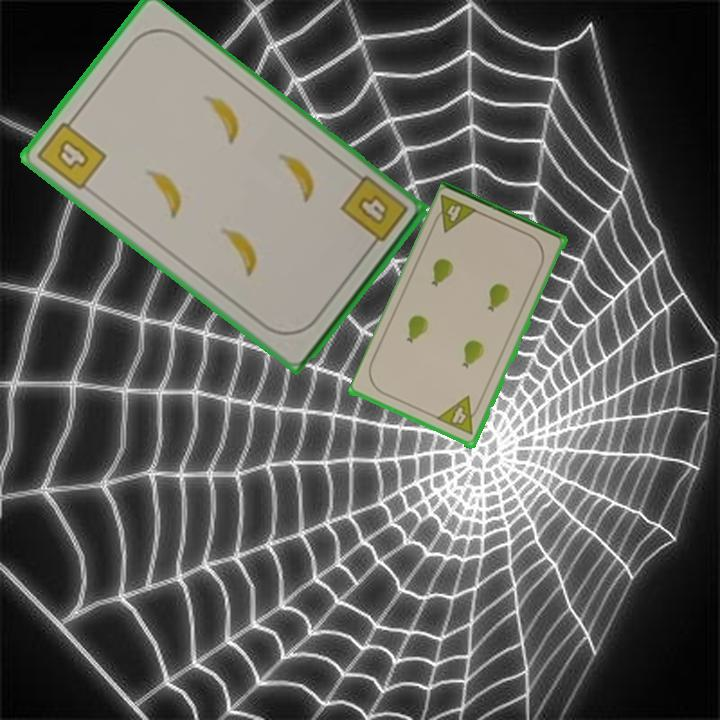4b: (33, 111, 109, 193), (336, 171, 411, 254)
4p: (428, 191, 482, 236), (434, 393, 484, 438)
